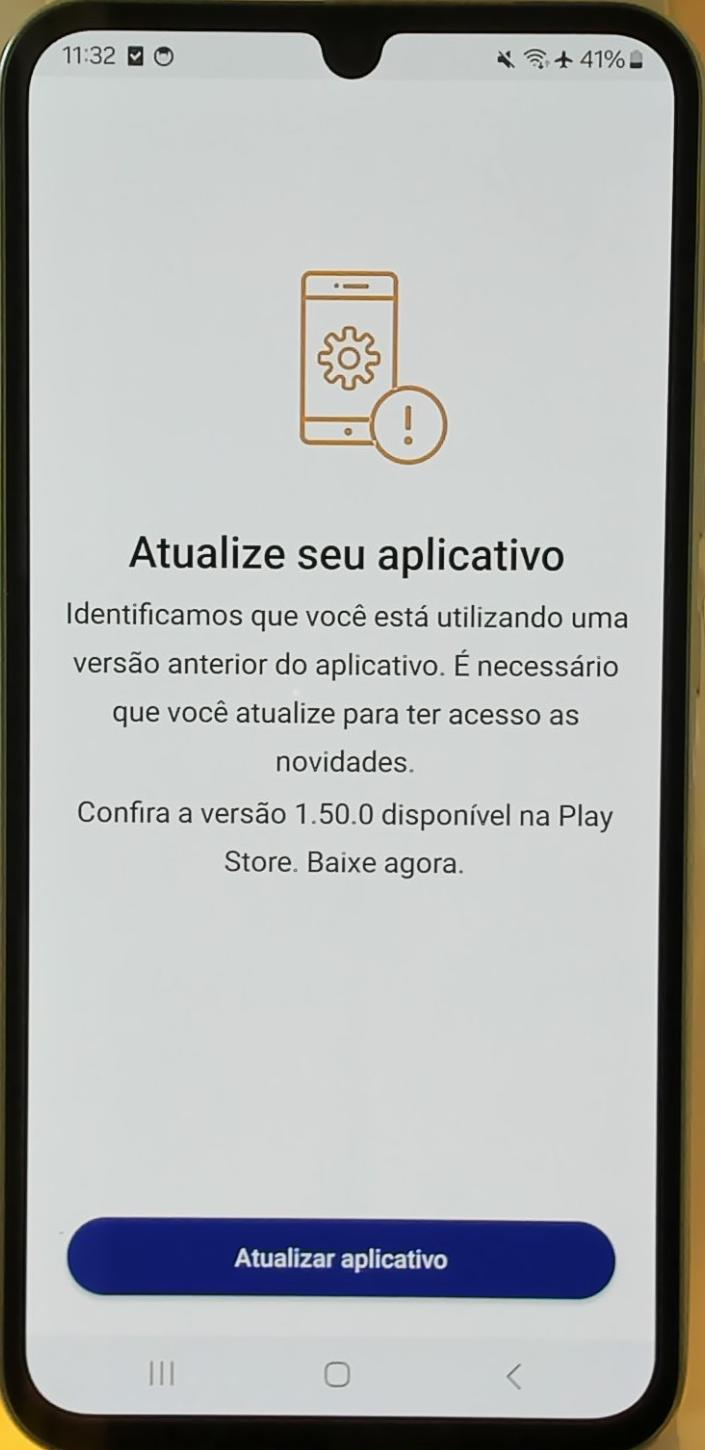CommunBotton: (56, 1212, 624, 1304), (132, 1344, 186, 1396), (310, 1348, 358, 1398), (496, 1348, 536, 1402)
